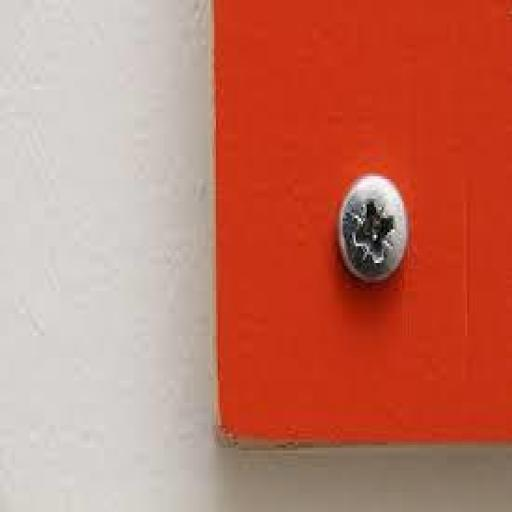Phillips: (335, 170, 407, 290)
